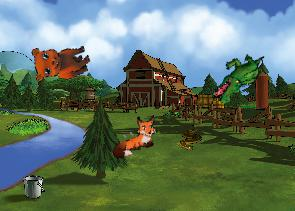bear: (26, 31, 94, 89)
crocodile: (209, 43, 266, 112)
fox: (104, 111, 164, 161)
